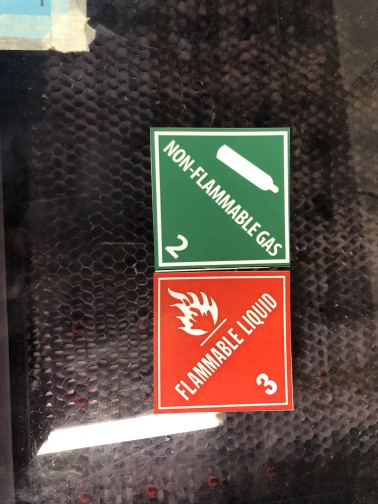FlammableLiquid: (152, 271, 296, 412)
NonFlammableGas: (148, 124, 292, 268)
